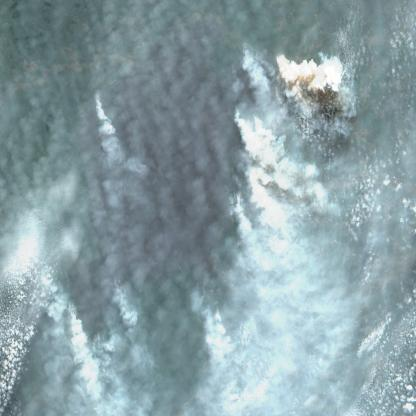fire: (36, 246, 132, 350), (227, 43, 288, 129), (200, 290, 228, 334), (242, 150, 271, 192)
